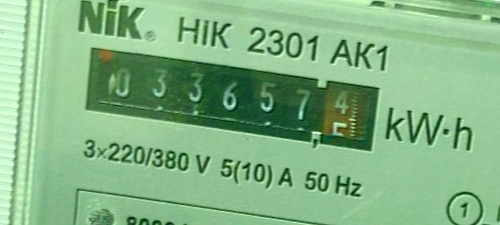0: (109, 64, 136, 103)
3: (148, 65, 172, 103), (184, 70, 207, 107)
4: (330, 87, 354, 119)
5: (253, 78, 280, 117)
6: (217, 78, 242, 115)
7: (289, 86, 312, 124)
screen: (68, 36, 390, 164)
